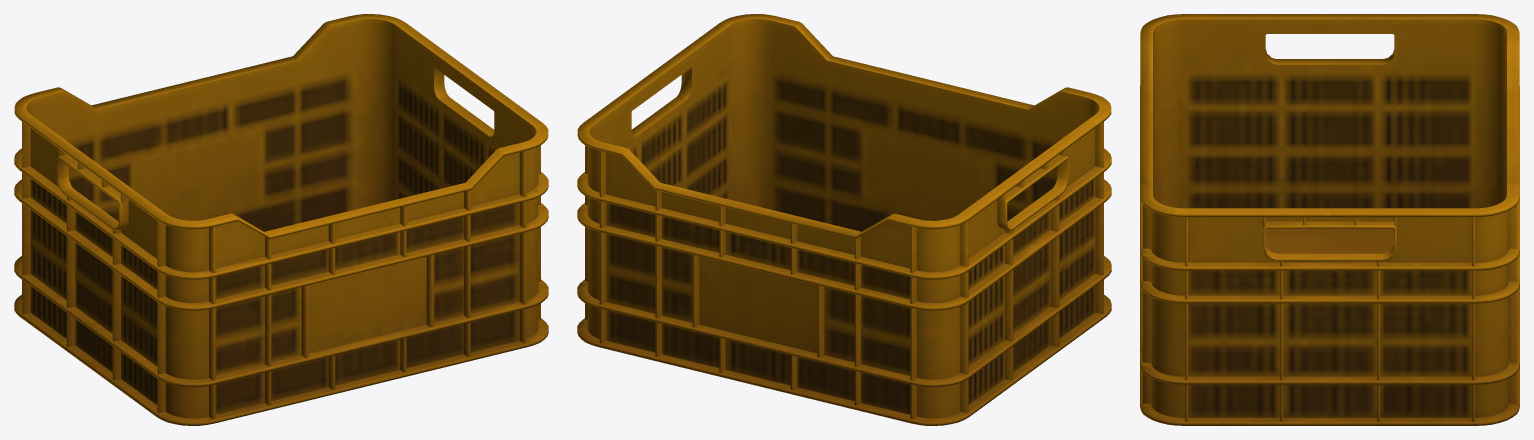
File: plastic_crate_02.glb
3 views of the same model, side by side, from view 1: azimuth 30°, elevation 25°; view 2: azimuth 150°, elevation 25°; view 3: azimuth 270°, elevation 25° (orthographic). The views are drawn at different scales.
Parts seen in each view (by area): view 1: plastic_crate_02; view 2: plastic_crate_02; view 3: plastic_crate_02.
Part boxes in pixels (<box>): plastic_crate_02: <box>14,14,548,425</box>; plastic_crate_02: <box>577,14,1111,425</box>; plastic_crate_02: <box>1140,14,1519,425</box>.
Size of the model in its own units: 0.5055 by 0.2541 by 0.4055.
Materials: 1 (1 with a texture image).
